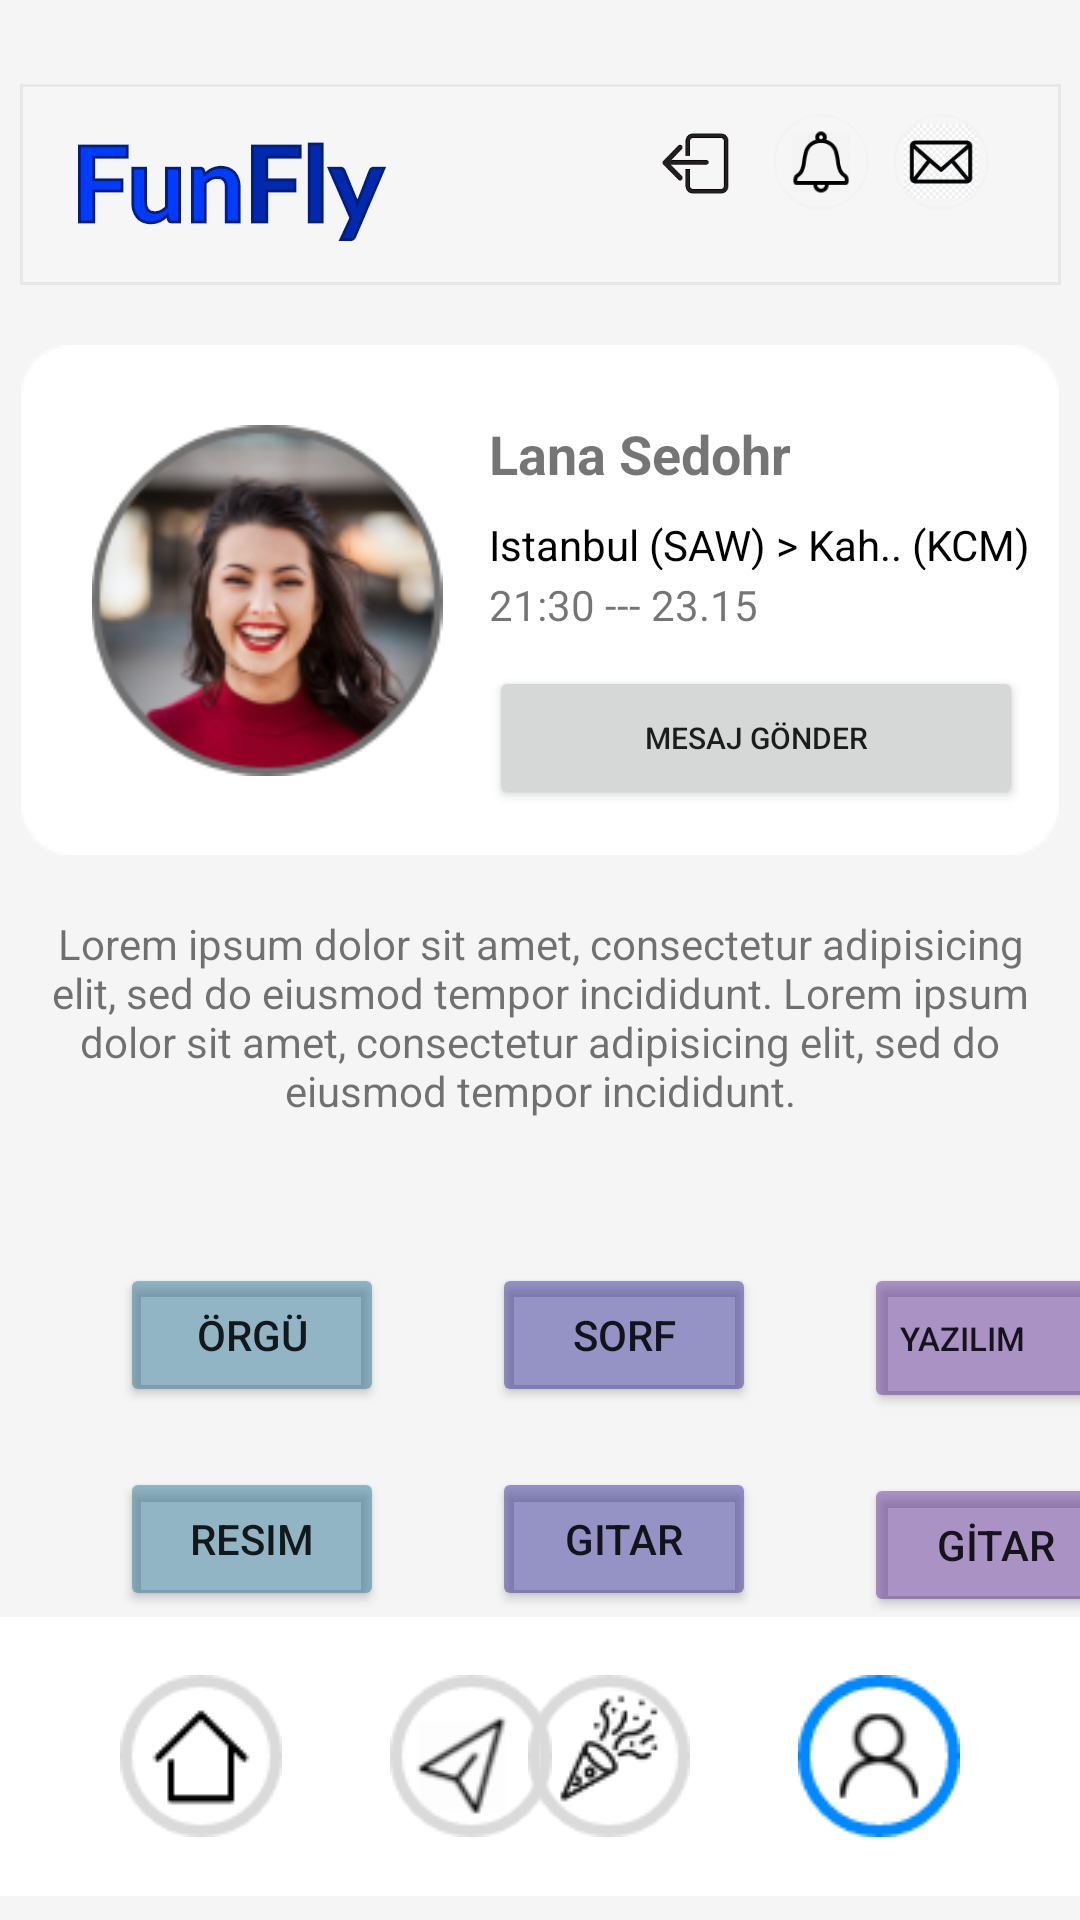

Named icons in this screenshot (1080*1920) and their centers, (x=x, y=y):
ent: (x=609, y=1756)
homeicon: (x=201, y=1756)
profilepic: (x=267, y=600)
sprofile: (x=879, y=1756)
